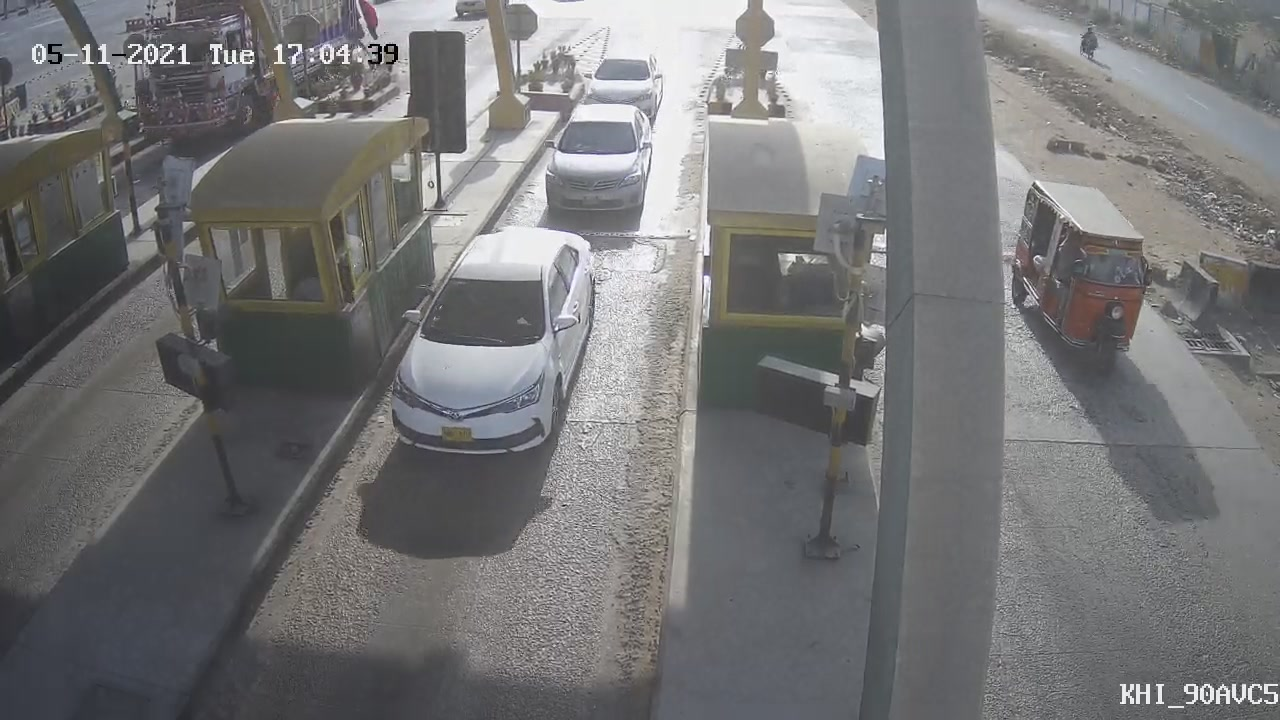F1: (373, 214, 612, 470), (531, 91, 667, 224)
